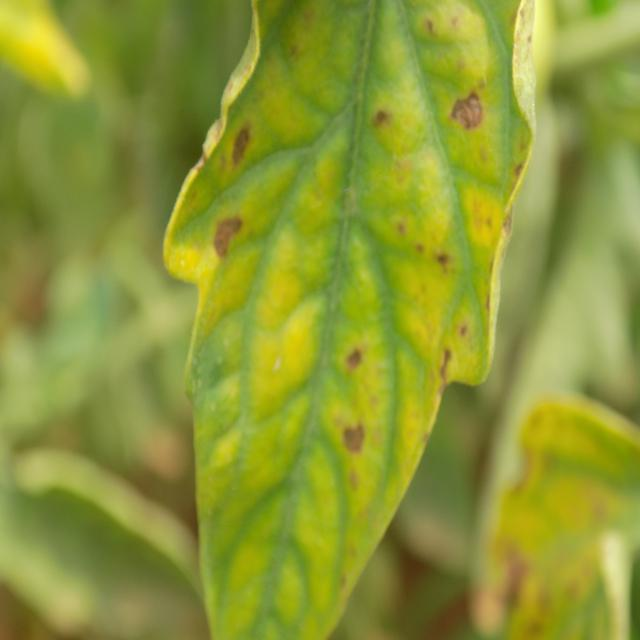tomato_early blight: (165, 0, 540, 640)
